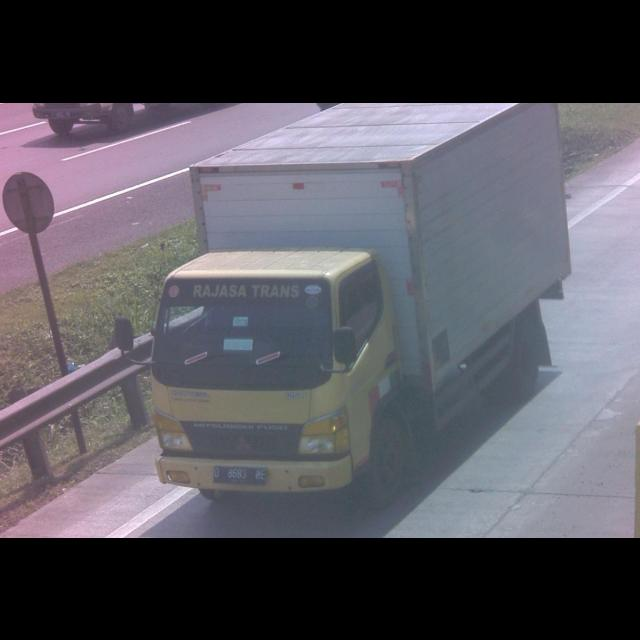plate: (211, 464, 272, 487)
